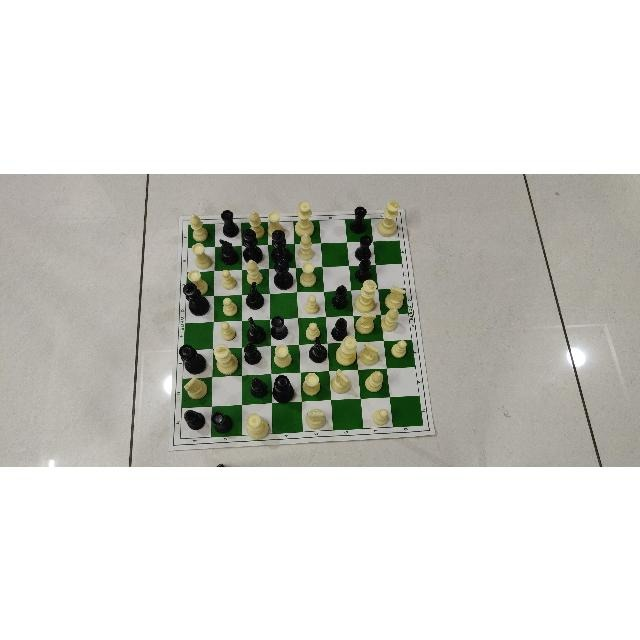black-bishop: (327, 279, 353, 310), (244, 372, 270, 403), (269, 257, 294, 289), (351, 256, 375, 284), (242, 339, 265, 366)
black-king: (181, 280, 211, 318), (267, 228, 295, 264), (239, 228, 265, 266)
black-knight: (241, 312, 268, 344), (215, 235, 240, 266), (307, 335, 329, 369), (243, 281, 267, 309)
black-pawn: (182, 407, 208, 433), (328, 313, 352, 340)
black-queen: (174, 339, 207, 377), (270, 373, 297, 403)
black-rook: (208, 404, 236, 436), (346, 203, 370, 235), (216, 205, 240, 236), (349, 233, 372, 261), (267, 311, 290, 339)
white-bishop: (186, 210, 212, 242), (377, 304, 402, 334), (360, 368, 388, 393), (296, 231, 318, 260), (243, 256, 265, 284), (247, 208, 265, 239)
white-king: (371, 197, 402, 236), (351, 277, 381, 315), (210, 338, 241, 374)
white-knight: (180, 374, 210, 402), (327, 366, 353, 396), (301, 404, 329, 431), (353, 308, 379, 337), (382, 280, 407, 310), (358, 340, 382, 365)
white-pawn: (216, 290, 239, 317), (387, 337, 412, 361), (217, 264, 241, 288), (215, 318, 237, 341), (369, 405, 392, 427), (303, 293, 323, 316), (302, 319, 322, 341)
white-queen: (291, 195, 316, 238), (241, 409, 271, 444), (333, 334, 359, 365)
white-rook: (186, 265, 212, 295), (263, 206, 288, 237), (188, 240, 213, 269), (270, 341, 295, 369), (301, 368, 323, 397), (298, 260, 320, 288)
